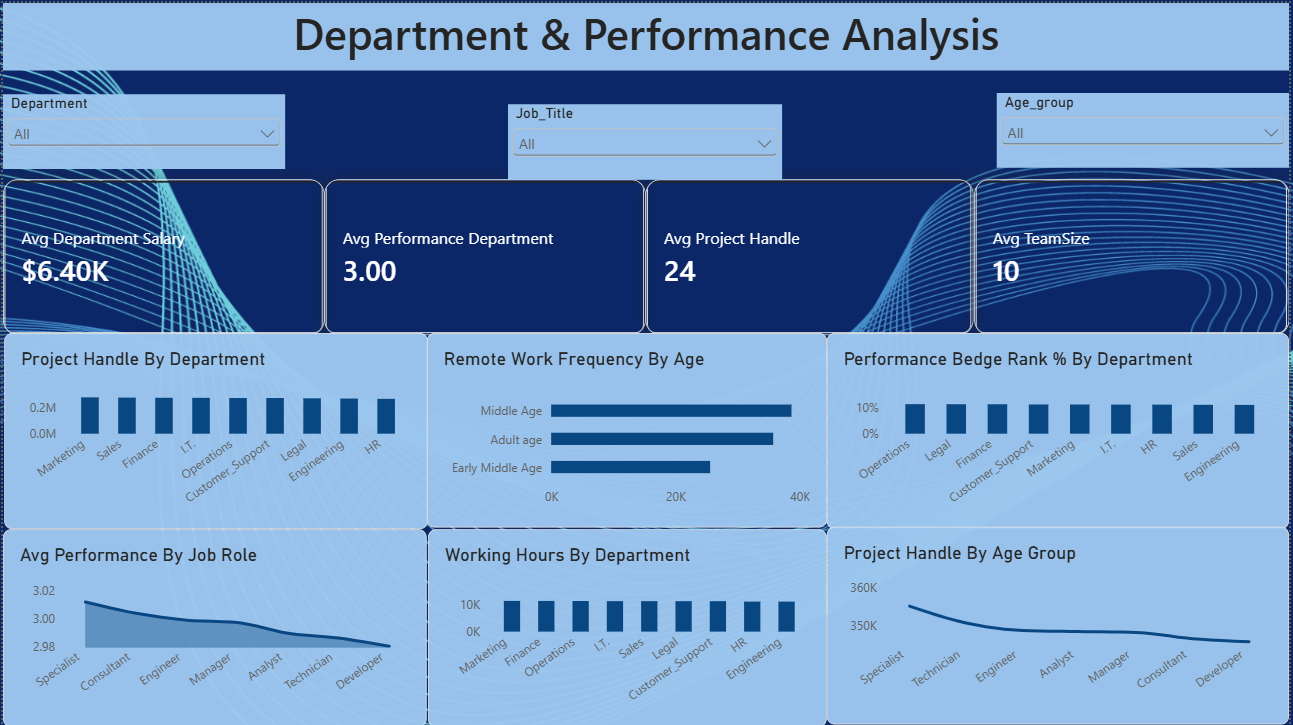

Layout of this report page (visuals, bound fields, positions):
{"tool":"powerbi","page":{"name":"Department & Performance Analysis","canvas":[1280,720],"ordinal":1},"visuals":[{"type":"textbox","box":[0,0,1280.3,67.2],"z":0},{"type":"cardVisual","fields":{"Data":["Measure Table.Avg Department Salary"]},"box":[0,175,320,155],"z":1000},{"type":"cardVisual","fields":{"Data":["Measure Table.Avg Performance Department"]},"box":[320,175,320,155],"z":2000},{"type":"cardVisual","fields":{"Data":["Measure Table.Avg Project Handle"]},"box":[640,175,326.7,155],"z":3000},{"type":"cardVisual","fields":{"Data":["Measure Table.Avg TeamSize"]},"box":[966.7,175,313.3,155],"z":4000},{"type":"clusteredColumnChart","title":"Project Handle By Department","fields":{"Category":["Clean data.Department"],"Y":["Sum(Clean data.Projects_Handled)"]},"box":[1.7,328.3,421.7,195],"z":5000},{"type":"areaChart","title":"Avg Performance By Job Role","fields":{"Category":["Clean data.Job_Title"],"Y":["Avg(Clean data.Performance_Score)"]},"box":[0,523.3,421.7,196.7],"z":6000},{"type":"clusteredColumnChart","title":"Performance Bedge Rank % By Department","fields":{"Y":["CountNonNull(Clean data.Rank_By_Performance)"],"Category":["Clean data.Department"]},"box":[820,328.3,460,195],"z":7000},{"type":"lineChart","title":"Project Handle By Age Group","fields":{"Y":["Sum(Clean data.Projects_Handled)"],"Category":["Clean data.Job_Title"]},"box":[820,521.7,460,196.7],"z":8000},{"type":"clusteredBarChart","title":"Remote Work Frequency By Age ","fields":{"Category":["Clean data.Age_group"],"Y":["CountNonNull(Clean data.Remote_Work_Frequency)"]},"box":[421.7,328.3,398.3,193.3],"z":9000},{"type":"clusteredColumnChart","title":"Working Hours By Department","fields":{"Category":["Clean data.Department"],"Y":["CountNonNull(Clean data.Work_Hours_Per_Week)"]},"box":[423.3,523.3,396.7,196.7],"z":10000},{"type":"slicer","fields":{"Values":["Clean data.Department"]},"box":[0,90.8,281.1,74.6],"z":11000},{"type":"slicer","fields":{"Values":["Clean data.Job_Title"]},"box":[502.6,100.8,273.1,75.5],"z":12000},{"type":"slicer","fields":{"Values":["Clean data.Age_group"]},"box":[988.9,89.6,291.1,74.6],"z":13000}]}

Visuals, with their boxes in screenshot pixels (x1, y1, x2, y2), scaled from the page's 1280x720 canvas onto the 1293x725 screenshot:
textbox: region(0, 0, 1292, 68)
cardVisual - Measure Table.Avg Department Salary: region(0, 176, 323, 332)
cardVisual - Measure Table.Avg Performance Department: region(323, 176, 646, 332)
cardVisual - Measure Table.Avg Project Handle: region(646, 176, 977, 332)
cardVisual - Measure Table.Avg TeamSize: region(977, 176, 1292, 332)
"Project Handle By Department" clusteredColumnChart: region(2, 331, 428, 527)
"Avg Performance By Job Role" areaChart: region(0, 527, 426, 724)
"Performance Bedge Rank % By Department" clusteredColumnChart: region(828, 331, 1292, 527)
"Project Handle By Age Group" lineChart: region(828, 525, 1292, 723)
"Remote Work Frequency By Age " clusteredBarChart: region(426, 331, 828, 525)
"Working Hours By Department" clusteredColumnChart: region(428, 527, 828, 724)
slicer - Clean data.Department: region(0, 91, 284, 167)
slicer - Clean data.Job_Title: region(508, 102, 784, 178)
slicer - Clean data.Age_group: region(999, 90, 1292, 165)
